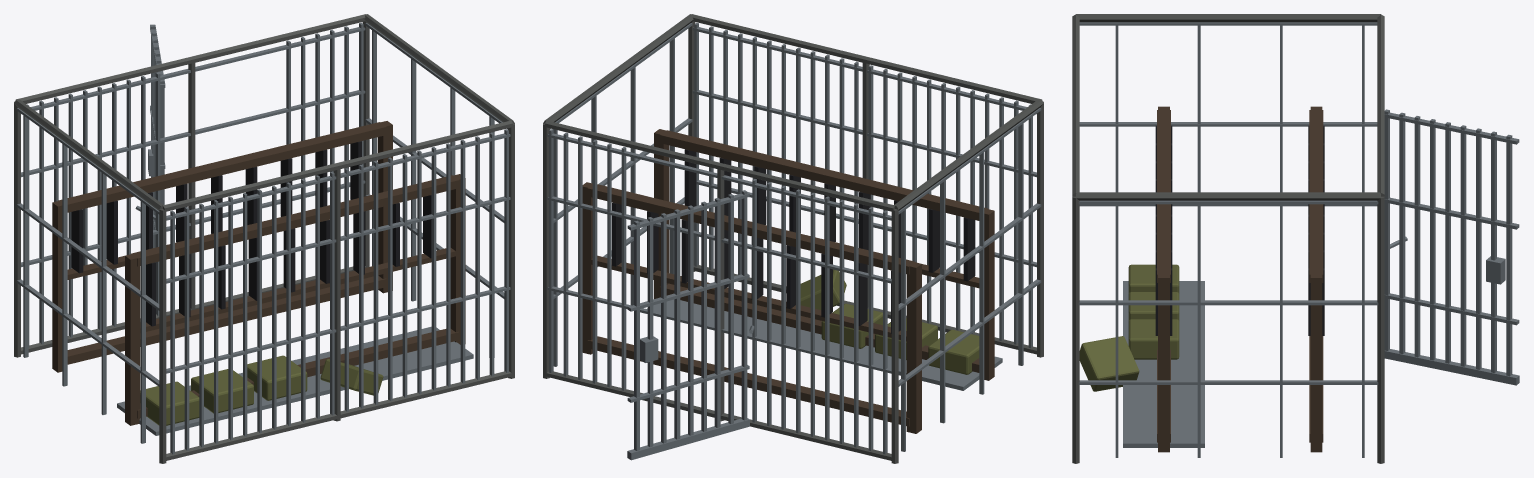
File: armory_cage.glb
3 renders of one model, left to right at view 1: azimuth 30°, elevation 25°; view 2: azimuth 150°, elevation 25°; view 3: azimuth 270°, elevation 25°, orthographic. The views are drawn at different scales.
Parts seen in each view (by area): view 1: armory_cage; view 2: armory_cage; view 3: armory_cage.
Boxes of the visible parts, x1,y1,x2,y2 form: armory_cage: [14, 14, 514, 463]; armory_cage: [543, 14, 1043, 463]; armory_cage: [1072, 14, 1519, 463].
Size of what is drawn, in the model's own units: 3.67 by 2.54 by 3.81.
Materials: 2 (2 with a texture image).
